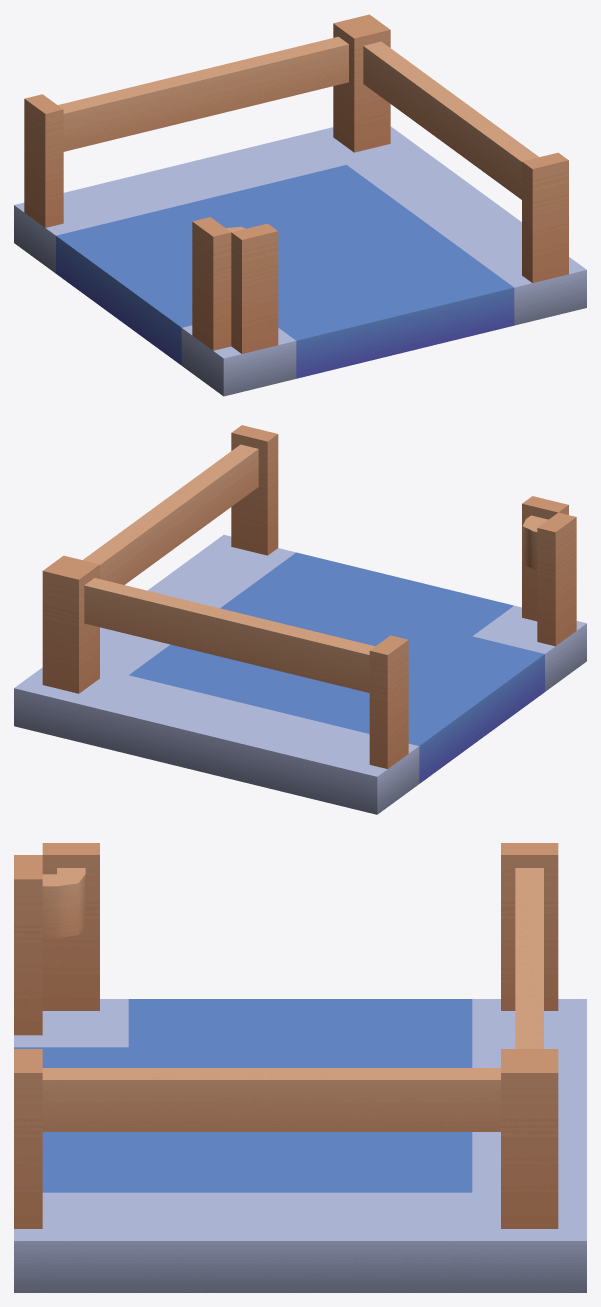
The model's file is queue_corner.glb.
3 renders of one model, top to bottom at view 1: azimuth 30°, elevation 25°; view 2: azimuth 150°, elevation 25°; view 3: azimuth 270°, elevation 25°, orthographic. The views are drawn at different scales.
Visible parts, largest first — view 1: queue-corner; view 2: queue-corner; view 3: queue-corner.
Part boxes in pixels (left/top/right/bottom): queue-corner: left=14, top=14, right=586, bottom=396; queue-corner: left=14, top=425, right=586, bottom=814; queue-corner: left=14, top=843, right=586, bottom=1292.
Bounding box in the file's own units: 1 × 0.4 × 1.
Materials: 1 (1 with a texture image).
